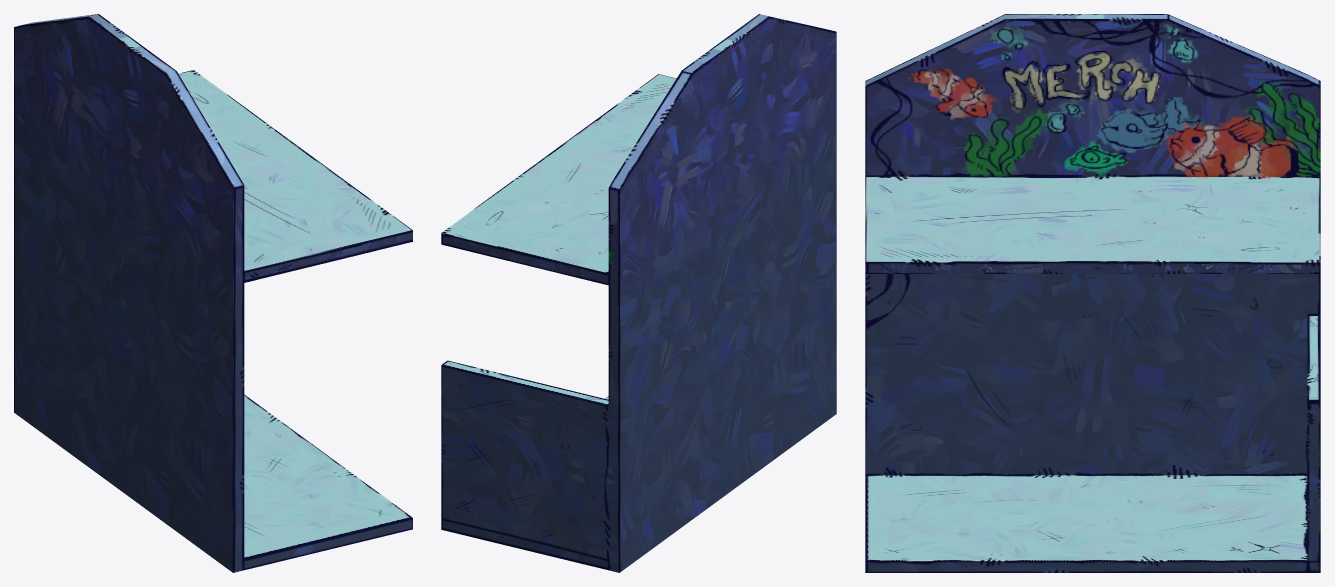
File: Shelf_Main_Body.fbx
3 views of the same model, side by side, from view 1: azimuth 30°, elevation 25°; view 2: azimuth 150°, elevation 25°; view 3: azimuth 270°, elevation 25° (orthographic). The views are drawn at different scales.
Visible parts, largest first — view 1: Interacted_Shelf; view 2: Interacted_Shelf; view 3: Interacted_Shelf.
Part boxes in pixels (x1=…): Interacted_Shelf: x1=14, y1=14, x2=412, y2=572; Interacted_Shelf: x1=441, y1=14, x2=836, y2=572; Interacted_Shelf: x1=865, y1=14, x2=1320, y2=572.
Size of the model in its own units: 0.2441 by 0.584 by 0.515.
1 material, 1 textured.
